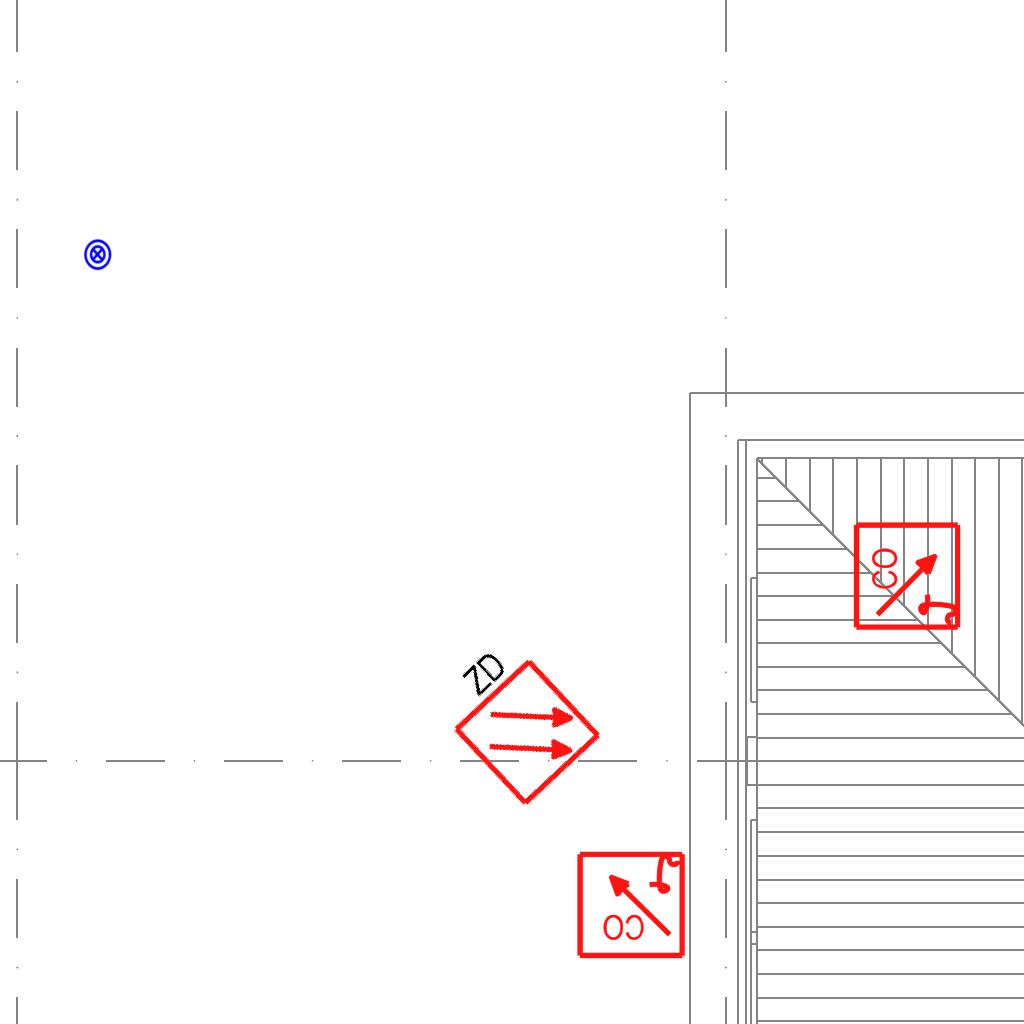ROA_Rauchmelder_optisch_mit_Signalgeber_(Sockelsirene): (852, 519, 965, 632), (574, 847, 687, 960)
Taster_beleuchtet: (81, 238, 114, 271)
ZD_Melder_in_Zwischendecke_mit_Revisionsoeffnung_mind_40_x_40_cm: (420, 626, 606, 813)
